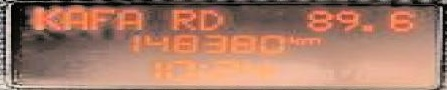-: (358, 22, 372, 31)
0: (160, 58, 193, 81), (258, 34, 282, 54)
1: (125, 34, 138, 54), (149, 58, 160, 81)
2: (206, 58, 239, 81)
3: (201, 34, 225, 54)
4: (239, 57, 274, 81), (141, 33, 168, 52)
6: (385, 8, 415, 31)
8: (301, 9, 331, 30), (225, 32, 255, 52), (168, 32, 195, 52)
9: (331, 8, 361, 31)
X: (195, 7, 225, 30), (114, 7, 141, 30), (60, 6, 87, 28), (33, 7, 60, 28), (87, 7, 114, 28), (166, 9, 193, 30), (298, 35, 323, 45), (285, 35, 298, 45)
